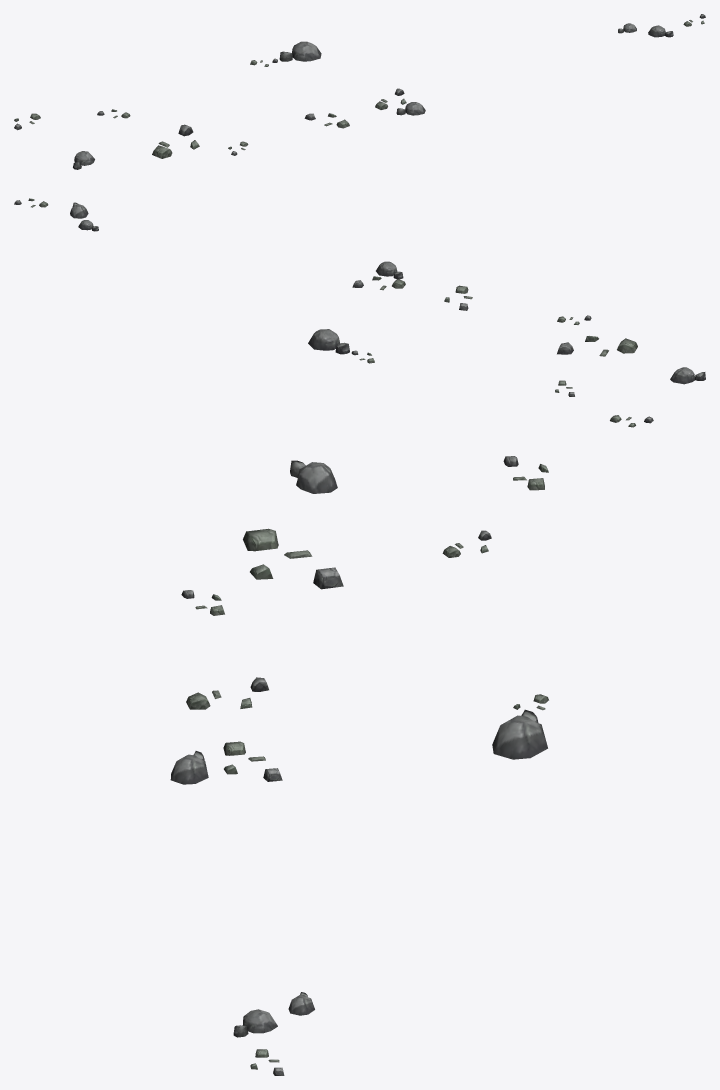
File: Area_06_12.fbx
The picture shows the model from 3 angles, top to bottom: view 1: azimuth 30°, elevation 25°; view 2: azimuth 150°, elevation 25°; view 3: azimuth 270°, elevation 25°; orthographic projection. The views are drawn at different scales.
Visible parts, largest first — view 1: Area_06_12; view 2: Area_06_12; view 3: Area_06_12.
Part boxes in pixels (x1=…): Area_06_12: x1=14, y1=14, x2=705, y2=169; Area_06_12: x1=14, y1=198, x2=705, y2=427; Area_06_12: x1=170, y1=456, x2=548, y2=1075.
Bounding box in the file's own units: 7804 × 192 × 2025.
